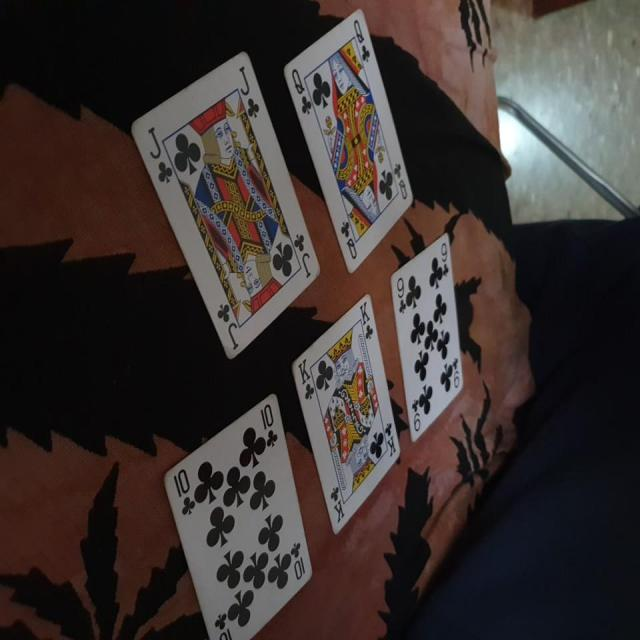10 Trefoils: (161, 391, 312, 640)
9 Trefoils: (388, 228, 464, 442)
J Trefoils: (126, 50, 320, 362)
K Trefoils: (289, 294, 403, 535)
Q Trefoils: (284, 10, 415, 274)
